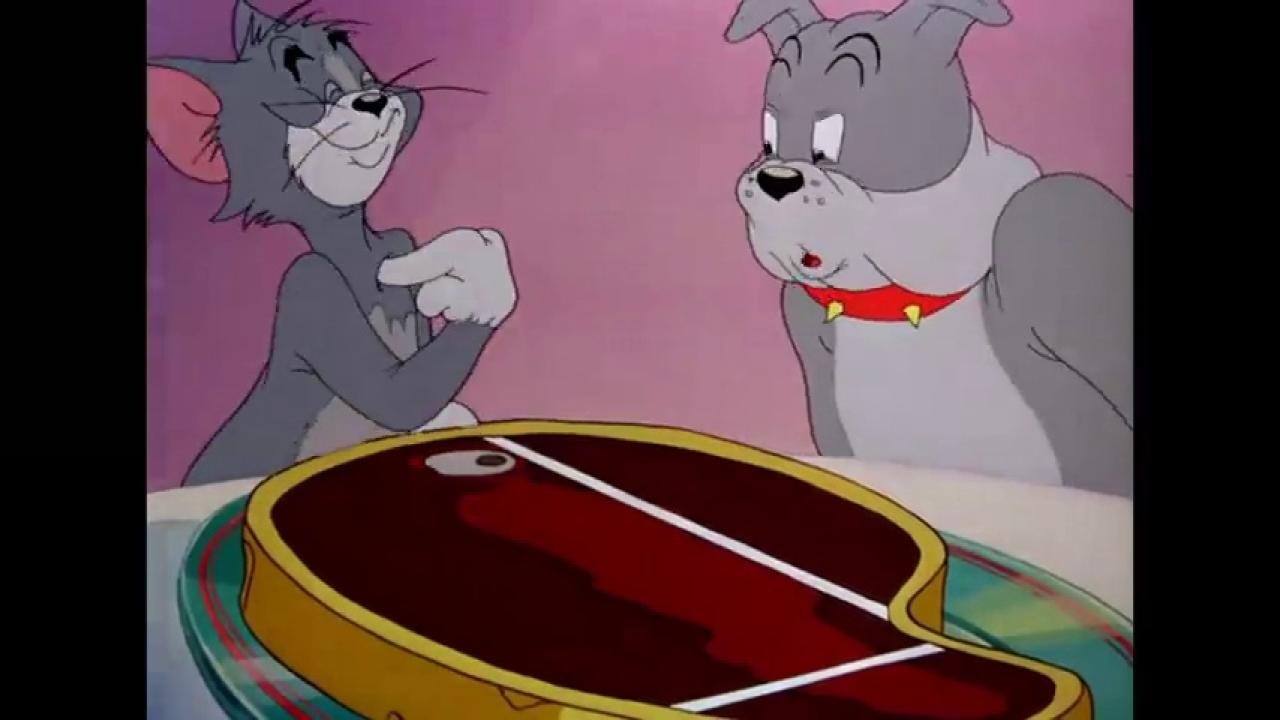Tom: (146, 1, 521, 489)
